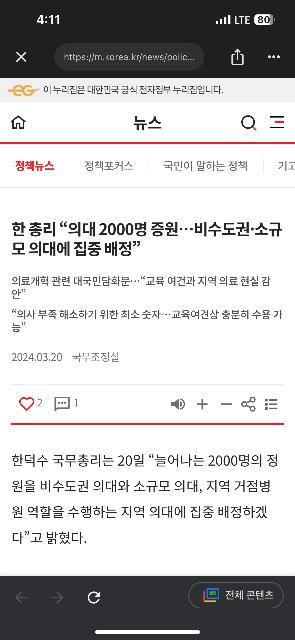Bottom_Navigation: (0, 576, 295, 614)
Drawer: (0, 43, 295, 70)
EditText: (54, 44, 204, 70)
Icon: (54, 396, 70, 412), (19, 397, 35, 411), (242, 396, 256, 412), (204, 588, 220, 602), (10, 115, 26, 128), (232, 49, 244, 66), (242, 116, 256, 130), (270, 116, 284, 128), (171, 398, 185, 410), (15, 591, 27, 603), (52, 591, 64, 603), (88, 591, 100, 603), (266, 398, 278, 409), (198, 398, 209, 409), (16, 52, 26, 62), (268, 56, 280, 59), (221, 403, 232, 405)
Image: (7, 85, 40, 96)
Multi_Tab: (0, 144, 295, 187)
Text: (11, 454, 279, 544), (12, 222, 282, 256), (11, 308, 283, 334), (12, 276, 272, 300), (64, 51, 196, 63), (44, 86, 224, 94), (164, 161, 248, 171), (12, 352, 62, 362), (226, 591, 274, 601), (85, 161, 133, 171), (73, 352, 119, 362), (16, 161, 54, 171), (134, 116, 161, 130), (38, 399, 42, 407), (76, 399, 78, 407)
TextImageButton: (188, 582, 284, 608)
UpperTaskBar: (0, 0, 295, 33)
